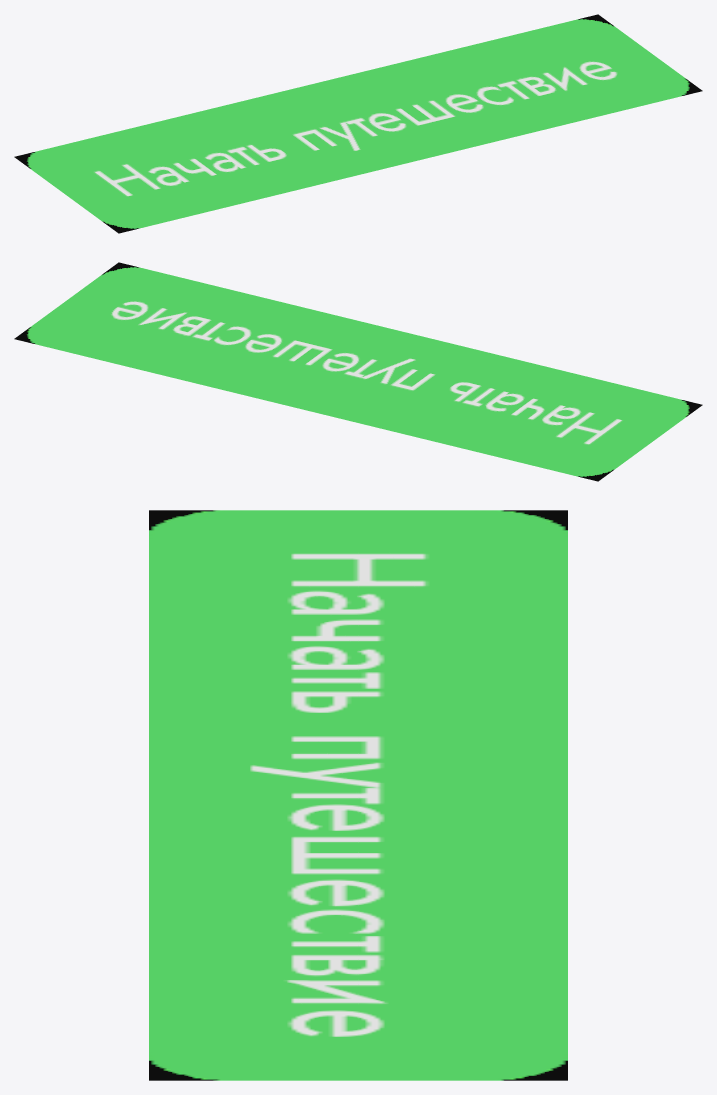
The model's file is Welcome Button Animated.fbx.
The picture shows the model from 3 angles, top to bottom: view 1: azimuth 30°, elevation 25°; view 2: azimuth 150°, elevation 25°; view 3: azimuth 270°, elevation 25°; orthographic projection. The views are drawn at different scales.
Visible parts, largest first — view 1: Plane001; view 2: Plane001; view 3: Plane001.
Boxes of the visible parts, x1,y1,x2,y2 form: Plane001: (14, 14, 702, 233); Plane001: (14, 262, 702, 481); Plane001: (149, 510, 567, 1080).
Bounding box in the file's own units: 3.1 × 5.9e-17 × 0.9642.
Materials: 1 (1 with a texture image).
